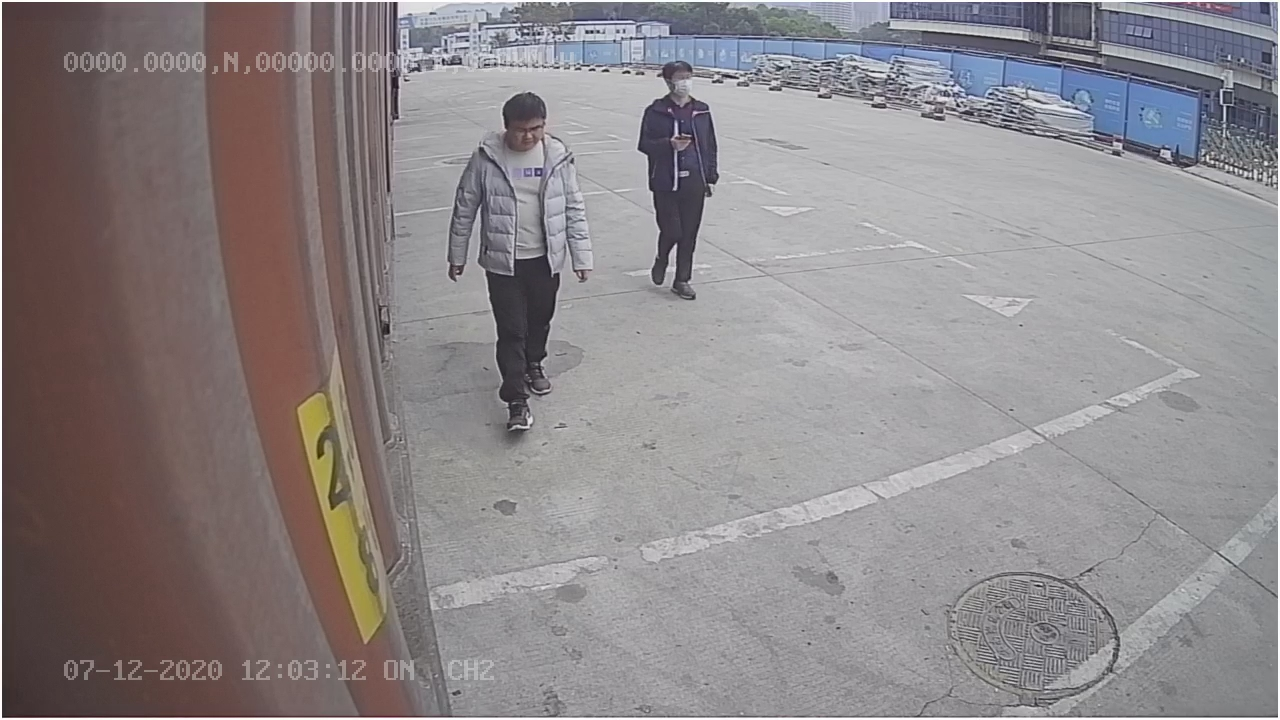person: (443, 92, 596, 432), (639, 58, 725, 310)
